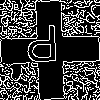P: (25, 25, 60, 72)
